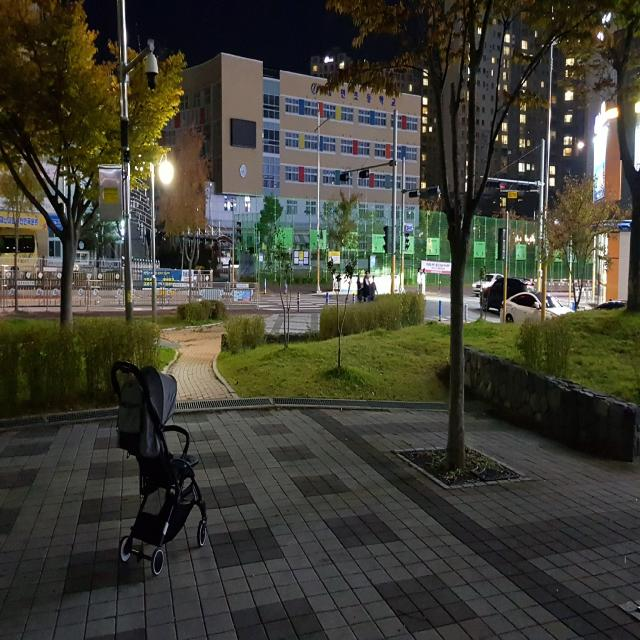횡단보도: (260, 294, 349, 310)
